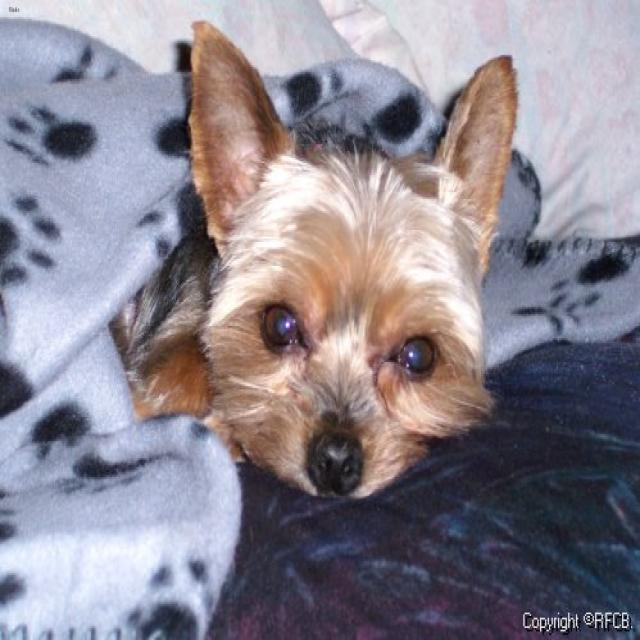dog-yorkshire_terrier: (97, 2, 523, 508)
